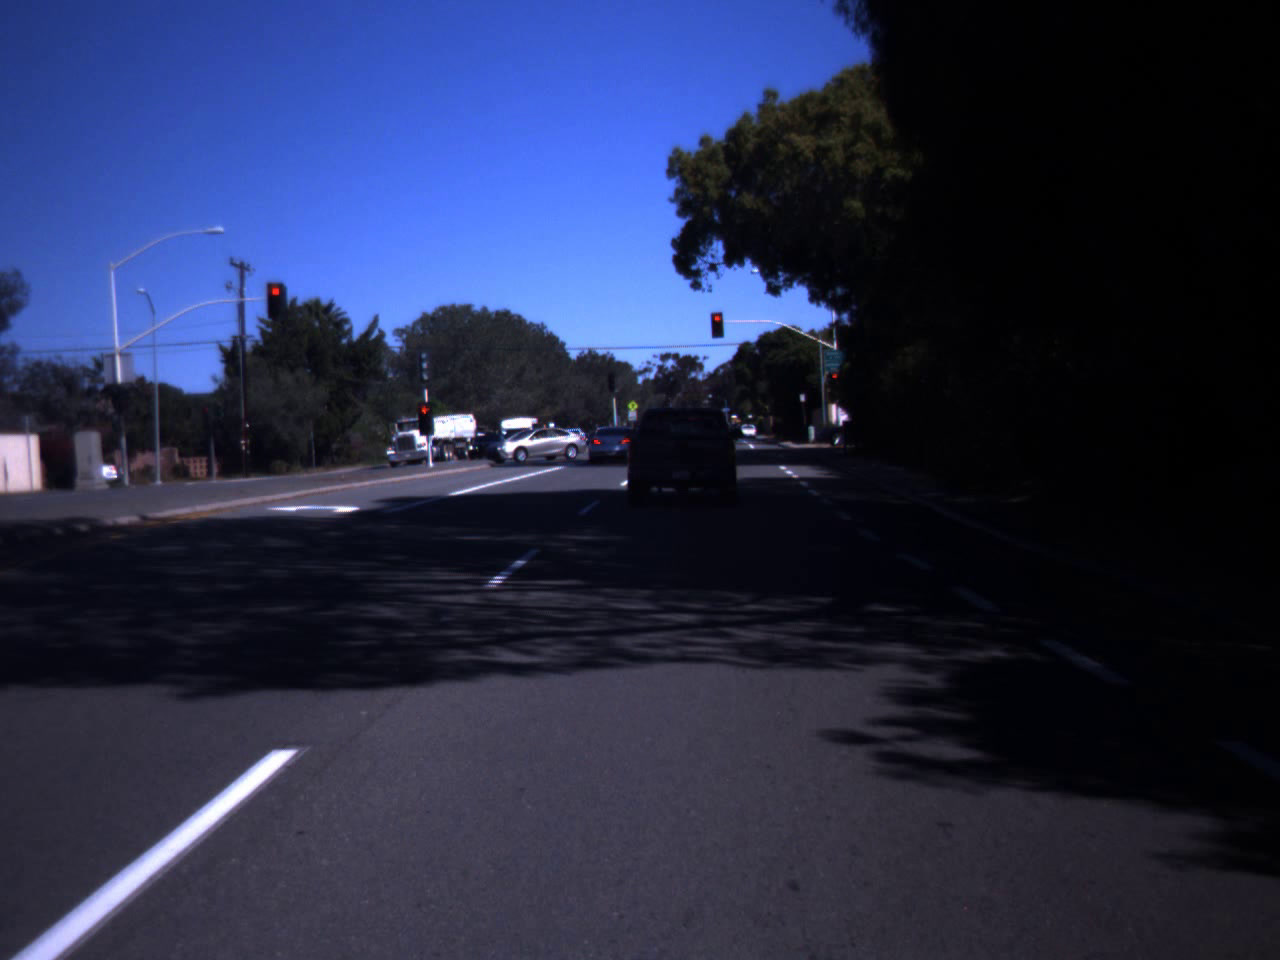stop: (268, 285, 283, 312), (710, 314, 725, 332), (418, 405, 430, 427), (828, 372, 840, 390)
